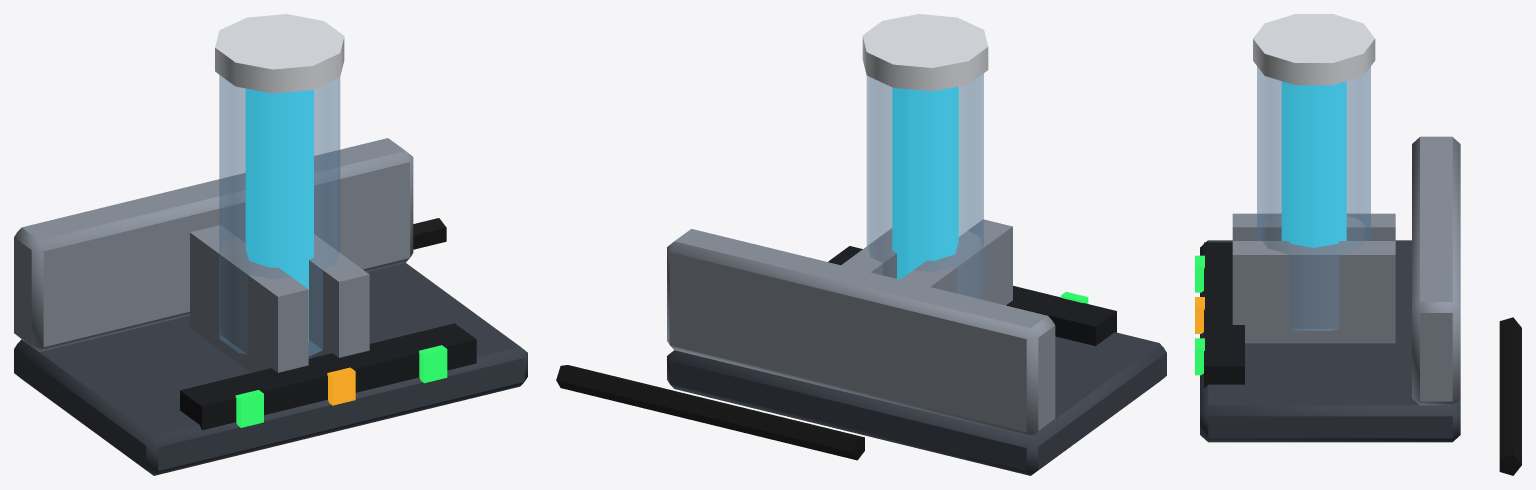
File: capacitor_charging_cradle.glb
The picture shows the model from 3 angles, left to right: view 1: azimuth 30°, elevation 25°; view 2: azimuth 150°, elevation 25°; view 3: azimuth 270°, elevation 25°; orthographic projection. The views are drawn at different scales.
Visible parts, largest first — view 1: capacitor_charging_cradle; view 2: capacitor_charging_cradle; view 3: capacitor_charging_cradle.
Part boxes in pixels (x1,y1,x2,y2): capacitor_charging_cradle: [14, 14, 527, 475]; capacitor_charging_cradle: [556, 14, 1166, 475]; capacitor_charging_cradle: [1195, 14, 1521, 475].
Bounding box in the file's own units: 0.6 × 0.435 × 0.401.
